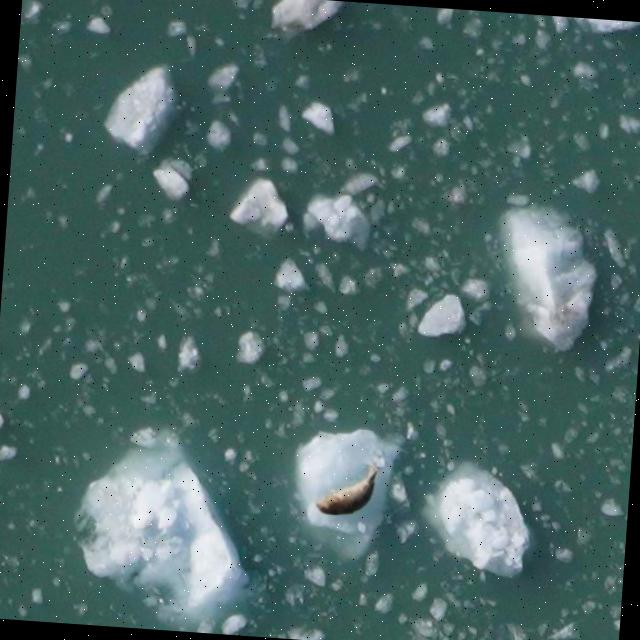seal: (310, 464, 389, 527)
